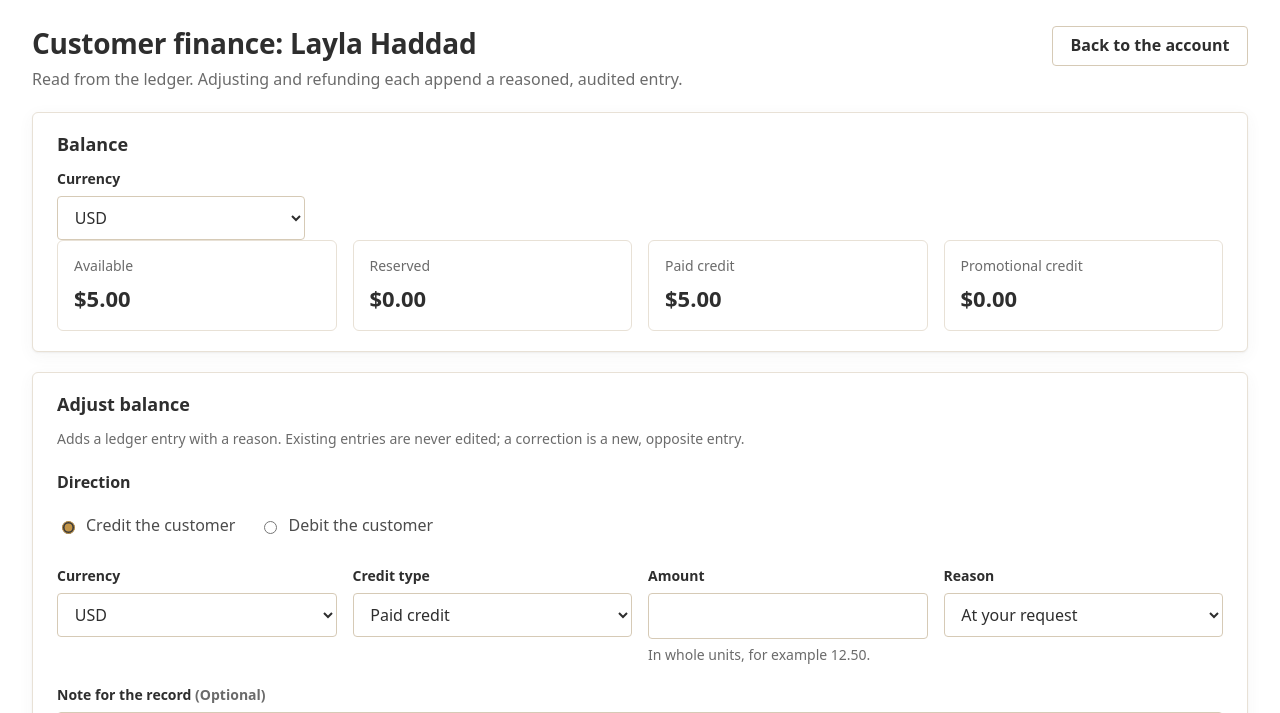
finance › adjusts a balance with a signed amount and one key per intended adjustment
Step 1. Click the radio button labelled "Debit the customer" → (271, 527), box [264, 521, 278, 534]
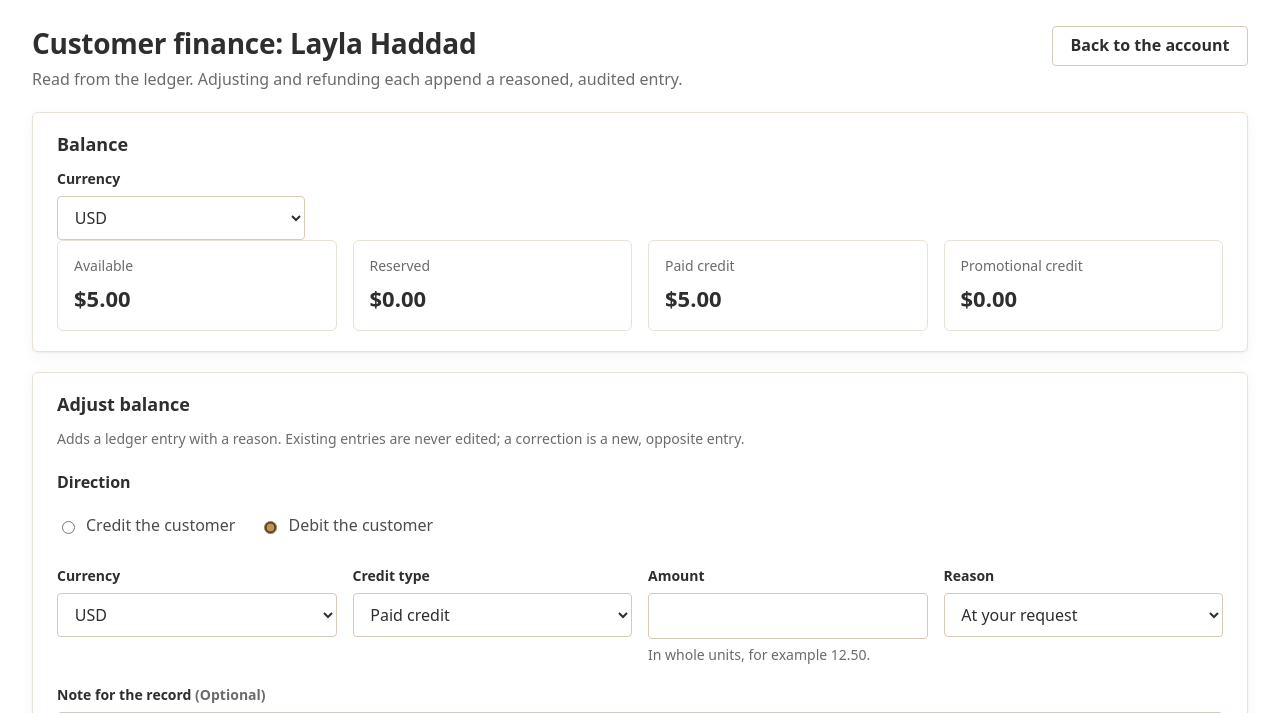
Step 2. Type "2" into the field labelled "Amount" → (788, 616), box [648, 593, 928, 638]
(page scrolled)
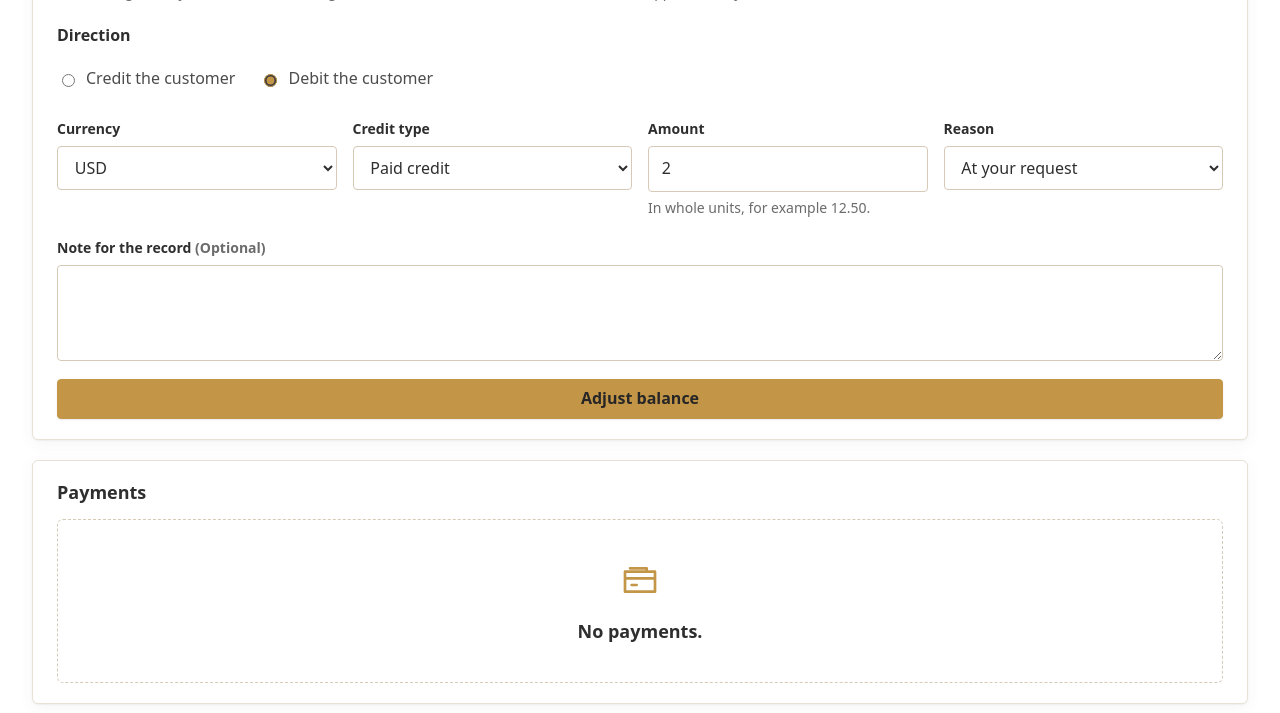
Step 3. Click the button "Adjust balance" → (640, 399), box [57, 379, 1223, 419]
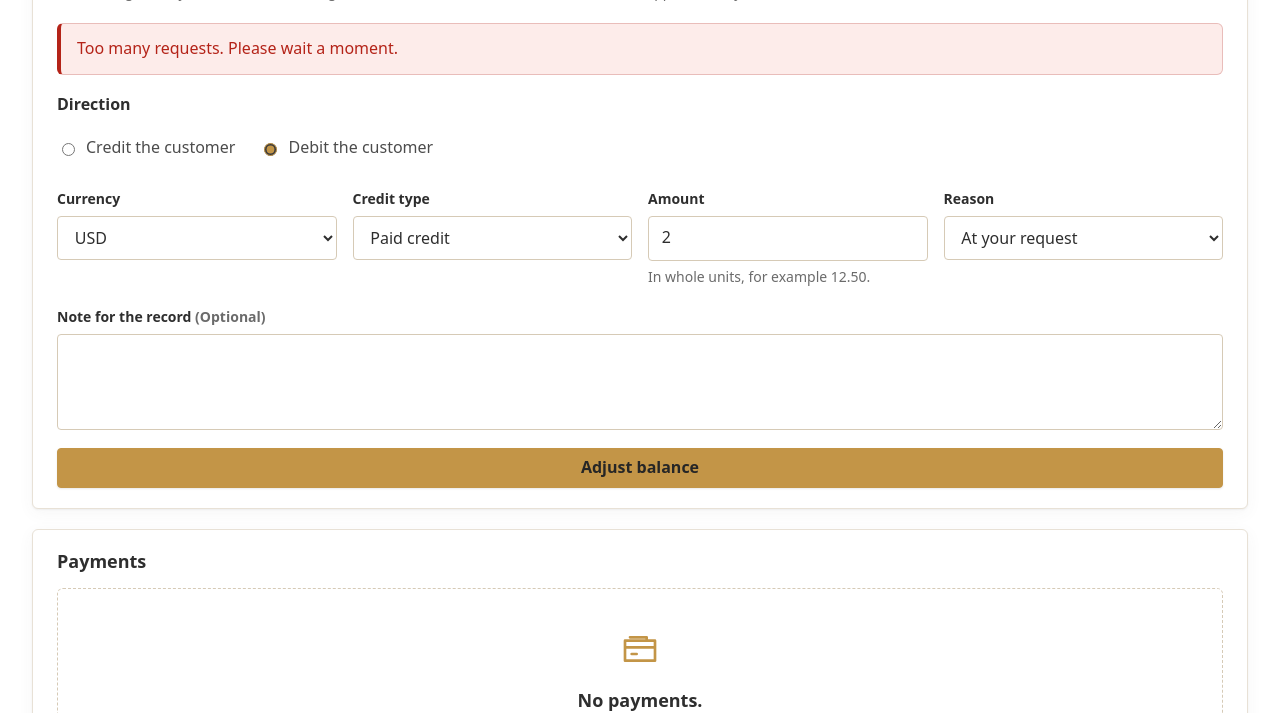
Expected: the text "Too many requests. Please wait a moment." is shown, [57, 23, 1223, 75]
Step 4. Click the button "Adjust balance" → (640, 468), box [57, 448, 1223, 488]
(page scrolled)
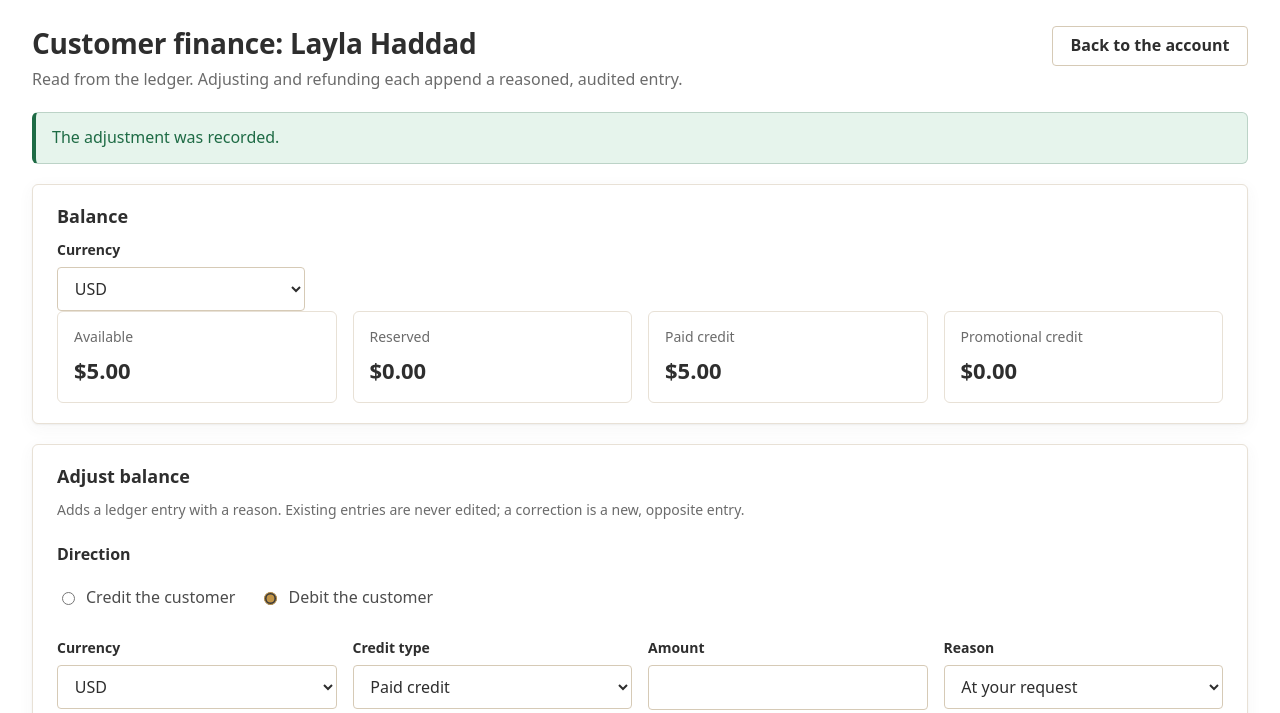
Expected: the text "The adjustment was recorded." is shown, [32, 112, 1248, 164]
